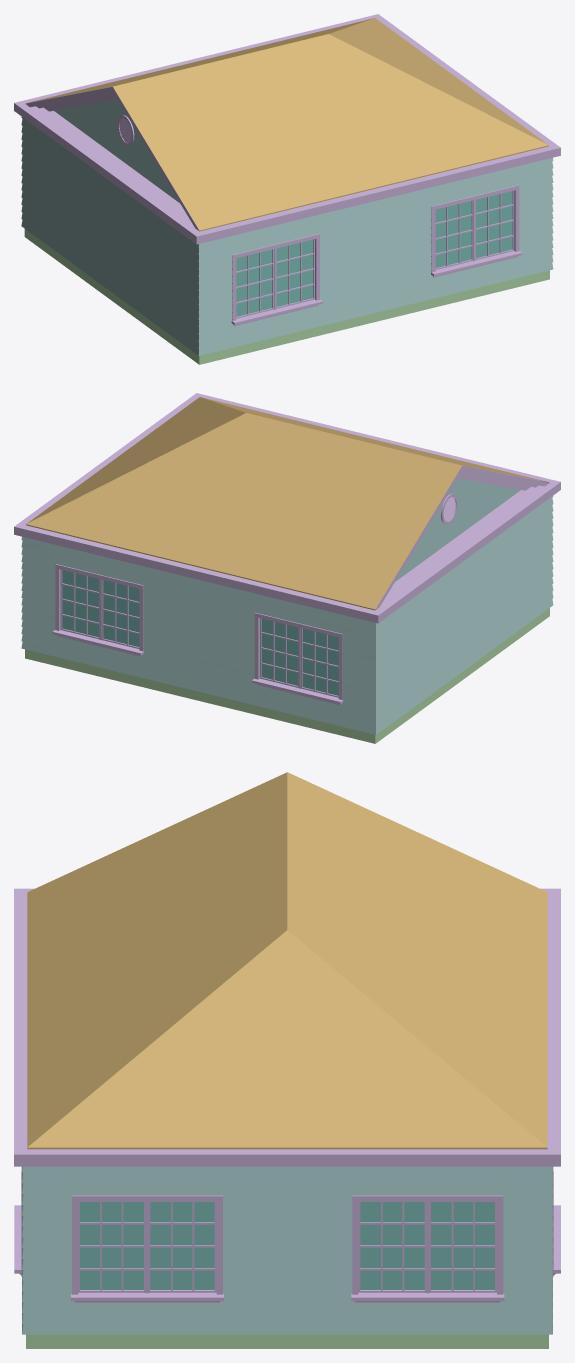
Rendered from House_2_2.FBX.
The picture shows the model from 3 angles, top to bottom: view 1: azimuth 30°, elevation 25°; view 2: azimuth 150°, elevation 25°; view 3: azimuth 270°, elevation 25°; orthographic projection. The views are drawn at different scales.
Visible parts, largest first — view 1: H2-mod_2_LOD0; view 2: H2-mod_2_LOD0; view 3: H2-mod_2_LOD0.
Boxes of the visible parts, left/top/right/bottom form: H2-mod_2_LOD0: left=14, top=14, right=560, bottom=364; H2-mod_2_LOD0: left=14, top=393, right=560, bottom=743; H2-mod_2_LOD0: left=14, top=772, right=560, bottom=1348.
Size of what is drawn, in the model's own units: 956 by 537 by 830.
